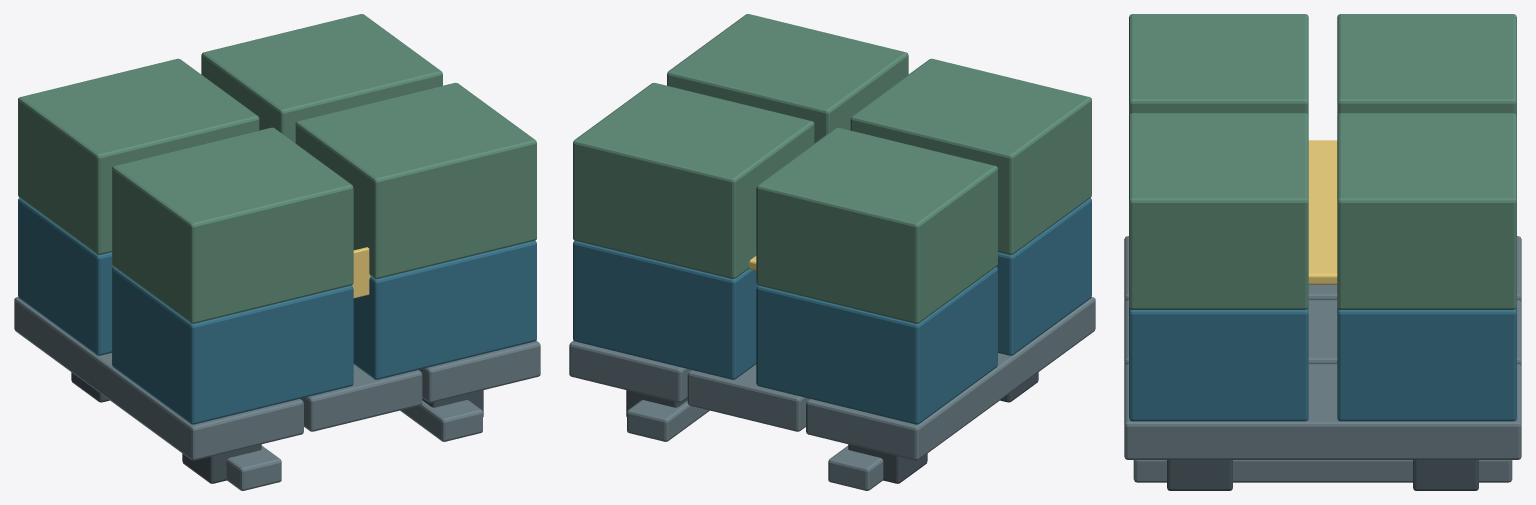
Rendered from pallet_stack_d0.glb.
The picture shows the model from 3 angles, left to right: view 1: azimuth 30°, elevation 25°; view 2: azimuth 150°, elevation 25°; view 3: azimuth 270°, elevation 25°; orthographic projection. The views are drawn at different scales.
Parts seen in each view (by area): view 1: Stacked crate.028, Stacked crate.030, Stacked crate.024, Stacked crate.029, Stacked crate.026, Stacked crate.031, Pallet deck board.012, Stacked crate.025, Pallet deck board.013, Pallet deck board.014, Pallet runner.007, Pallet runner.006 (+2 smaller); view 2: Stacked crate.029, Stacked crate.031, Stacked crate.025, Stacked crate.028, Stacked crate.027, Stacked crate.030, Pallet deck board.012, Stacked crate.024, Pallet deck board.013, Pallet deck board.014, Pallet runner.007, Pallet runner.006 (+1 smaller); view 3: Stacked crate.030, Stacked crate.031, Stacked crate.026, Stacked crate.027, Stacked crate.028, Stacked crate.029, Pallet deck board.014, Pallet runner.007, Load wrap.003, Pallet deck board.013, Pallet block.018, Pallet block.019 (+1 smaller).
Boxes of the visible parts, x1=… form: Stacked crate.028: x1=112, y1=127, x2=353, y2=323; Stacked crate.030: x1=295, y1=82, x2=536, y2=278; Stacked crate.024: x1=112, y1=267, x2=353, y2=424; Stacked crate.029: x1=18, y1=58, x2=259, y2=254; Stacked crate.026: x1=353, y1=240, x2=536, y2=379; Stacked crate.031: x1=201, y1=14, x2=442, y2=143; Pallet deck board.012: x1=14, y1=297, x2=303, y2=460; Stacked crate.025: x1=18, y1=198, x2=113, y2=355; Pallet deck board.013: x1=300, y1=364, x2=422, y2=431; Pallet deck board.014: x1=419, y1=340, x2=540, y2=402; Pallet runner.007: x1=400, y1=400, x2=482, y2=441; Pallet runner.006: x1=226, y1=445, x2=281, y2=490; Stacked crate.029: x1=756, y1=127, x2=997, y2=323; Stacked crate.031: x1=573, y1=82, x2=814, y2=278; Stacked crate.025: x1=756, y1=267, x2=997, y2=424; Stacked crate.028: x1=850, y1=58, x2=1091, y2=254; Stacked crate.027: x1=573, y1=240, x2=757, y2=379; Stacked crate.030: x1=667, y1=14, x2=908, y2=143; Pallet deck board.012: x1=806, y1=297, x2=1095, y2=460; Stacked crate.024: x1=996, y1=198, x2=1091, y2=355; Pallet deck board.013: x1=687, y1=364, x2=809, y2=431; Pallet deck board.014: x1=569, y1=340, x2=690, y2=402; Pallet runner.007: x1=627, y1=400, x2=709, y2=441; Pallet runner.006: x1=828, y1=445, x2=883, y2=490; Stacked crate.030: x1=1129, y1=113, x2=1308, y2=309; Stacked crate.031: x1=1337, y1=113, x2=1516, y2=309; Stacked crate.026: x1=1129, y1=307, x2=1308, y2=421; Stacked crate.027: x1=1337, y1=307, x2=1516, y2=421; Stacked crate.028: x1=1129, y1=14, x2=1308, y2=115; Stacked crate.029: x1=1337, y1=14, x2=1516, y2=115; Pallet deck board.014: x1=1124, y1=364, x2=1521, y2=459; Pallet runner.007: x1=1133, y1=460, x2=1512, y2=482; Load wrap.003: x1=1308, y1=140, x2=1337, y2=284; Pallet deck board.013: x1=1124, y1=300, x2=1521, y2=366; Pallet block.018: x1=1167, y1=460, x2=1232, y2=490; Pallet block.019: x1=1413, y1=460, x2=1478, y2=490.
Size of the model in its own units: 2.36 by 1.82 by 2.1.
